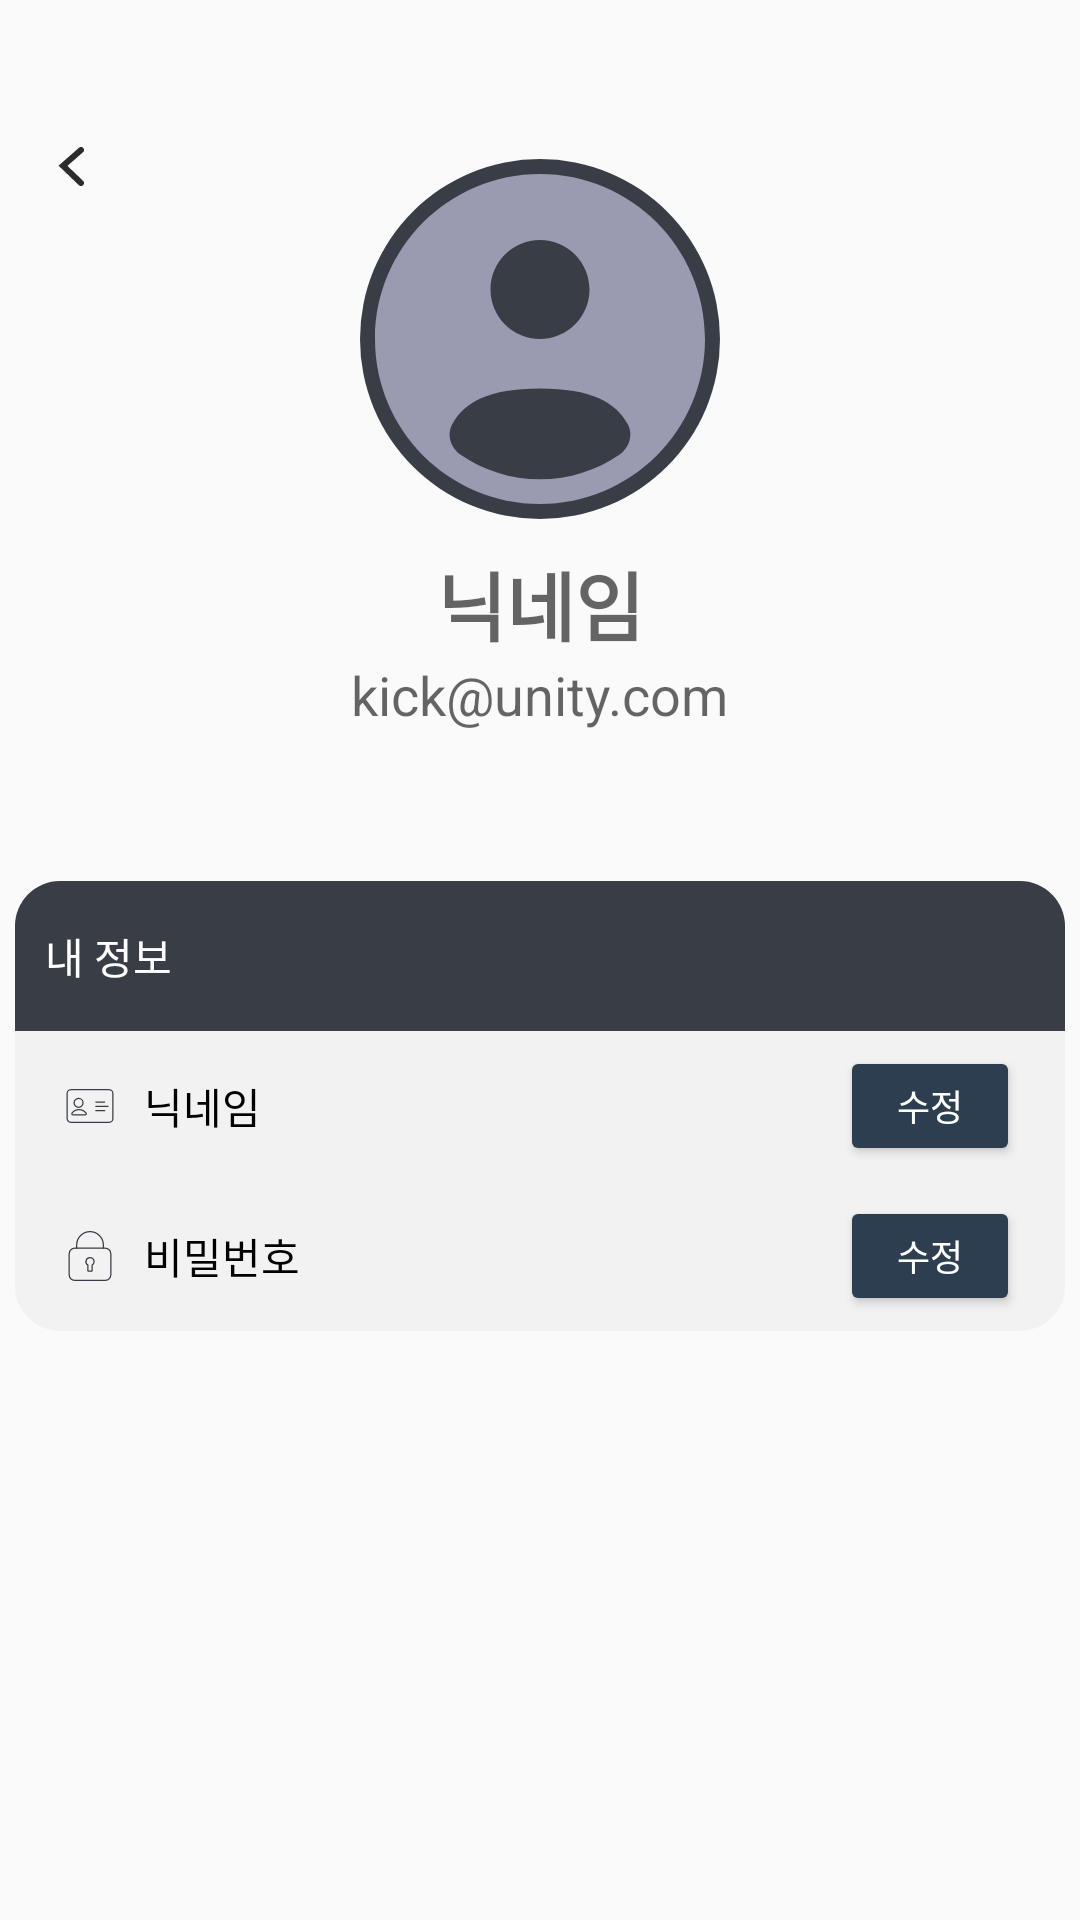

Point at icon controls on the screen. Image size 1080px x 1920px, points as point (x, y).
arrow: point (71, 166)
profile: point (540, 339)
